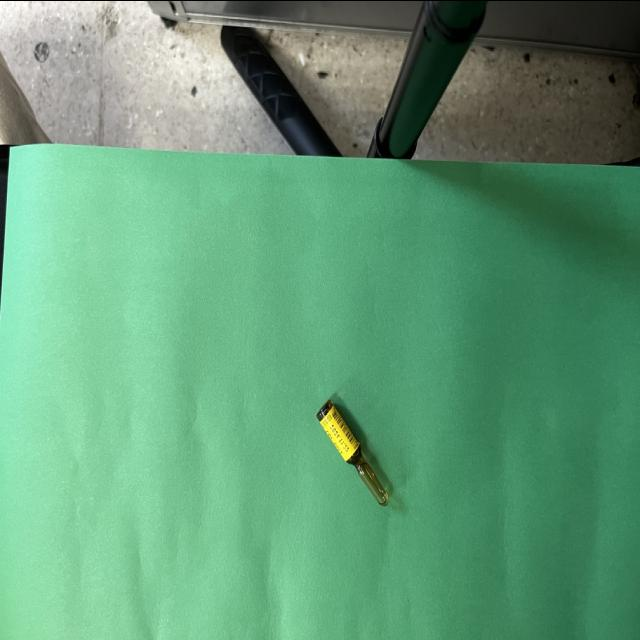Ampoules: (316, 399, 388, 505)
